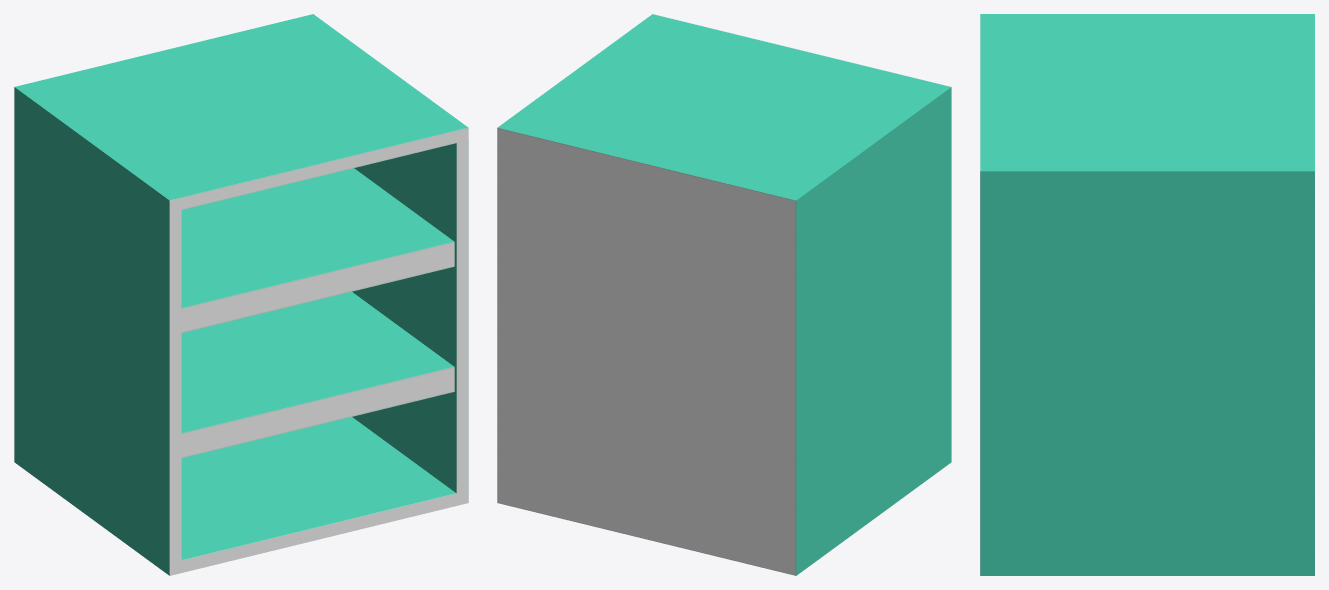
The model's file is smallnightstand.FBX.
3 views of the same model, side by side, from view 1: azimuth 30°, elevation 25°; view 2: azimuth 150°, elevation 25°; view 3: azimuth 270°, elevation 25° (orthographic). The views are drawn at different scales.
Visible parts, largest first — view 1: small nightstand; view 2: small nightstand; view 3: small nightstand.
Part boxes in pixels (box(x1,y1,x2,y2)): small nightstand: box(14, 14, 468, 575); small nightstand: box(497, 14, 951, 575); small nightstand: box(980, 14, 1314, 575).
Size of the model in its own units: 51.45 by 61.74 by 46.31.
Materials: 1 (1 with a texture image).
